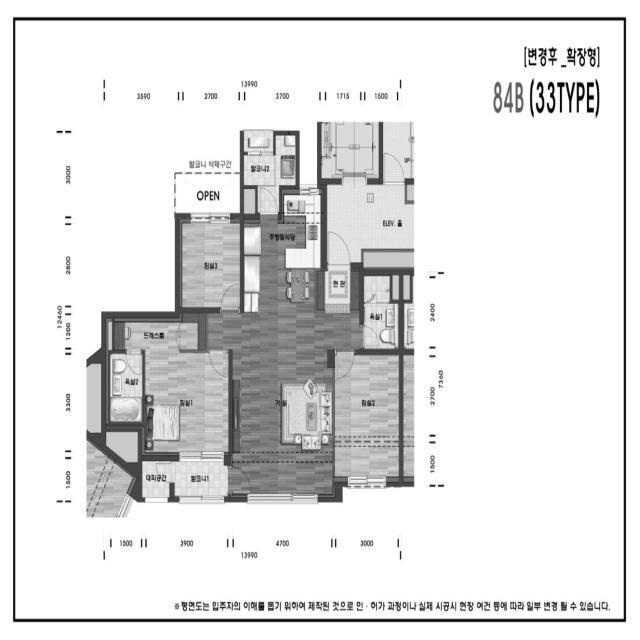space_balconi: (244, 135, 296, 213), (172, 461, 228, 498)
space_bedroom: (142, 350, 229, 456), (335, 355, 399, 482), (180, 219, 240, 308)
space_dressroom: (114, 318, 180, 350), (180, 313, 206, 350)
space_elevator: (321, 122, 379, 179)
space_elevator_hall: (327, 178, 414, 263)
space_front: (317, 265, 360, 313)
space_kitchen: (244, 189, 323, 314)
space_living_room: (208, 313, 360, 497)
space_other: (86, 363, 102, 433), (142, 462, 170, 498), (106, 432, 138, 463), (363, 252, 414, 268), (244, 189, 255, 214), (106, 318, 112, 351), (392, 275, 399, 300), (407, 184, 414, 201)
space_outdoor_room: (244, 131, 273, 152)
space_staircase: (383, 122, 414, 182)
space_toilet: (364, 276, 399, 350), (109, 353, 143, 424)
